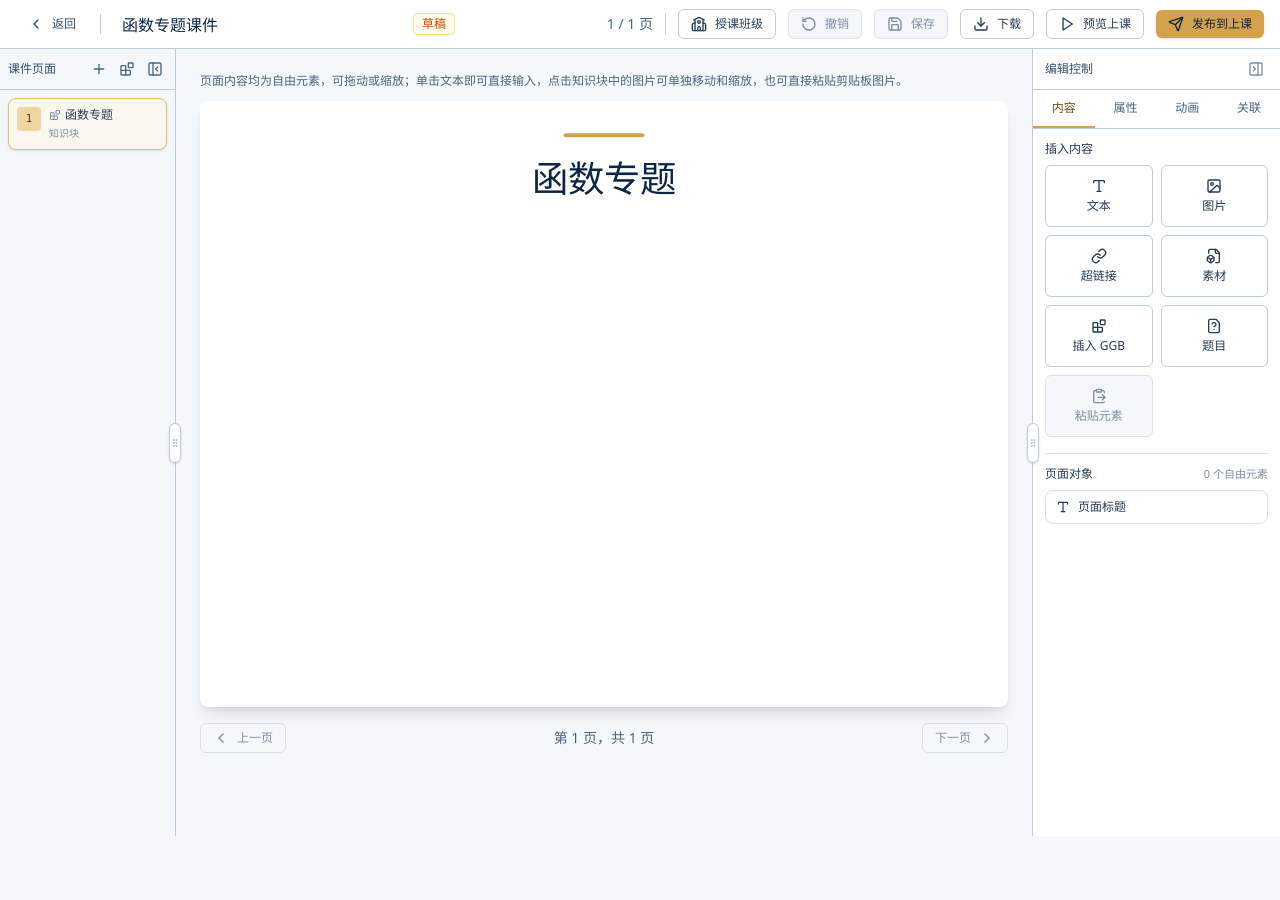
Test: LessonEditorPage preview query › inserts questions only from the teacher resource baskets
Check: the field named "课件名称" holds "函数专题课件", box x1=113 y1=8 x2=401 y2=40
Click the button "题目" at {"x": 1214, "y": 336}, box x1=1160 y1=305 x2=1268 y2=367
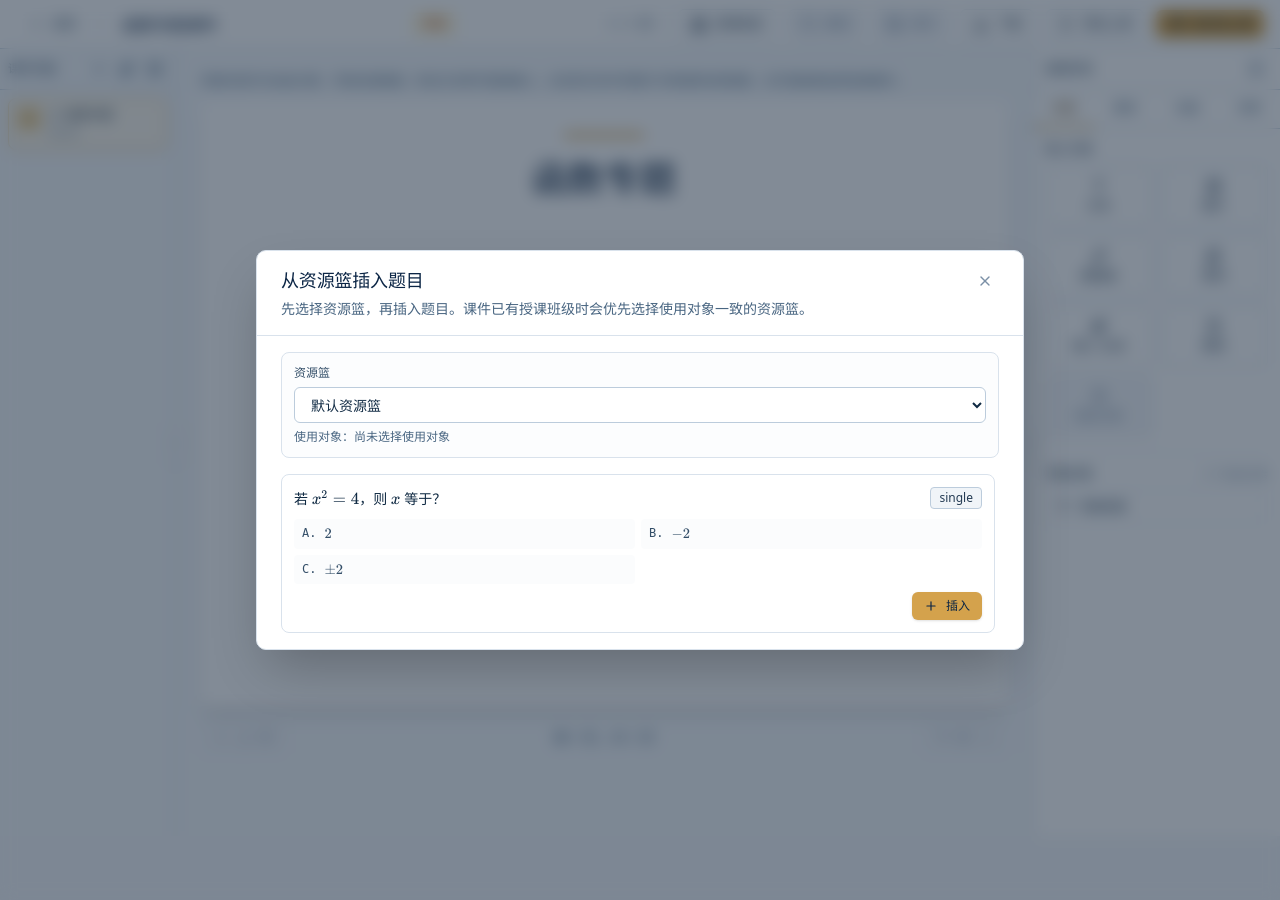
Check: the heading "从资源篮插入题目" is shown, box x1=281 y1=271 x2=424 y2=291
Click the button "插入" at {"x": 947, "y": 606}, box x1=912 y1=592 x2=982 y2=620
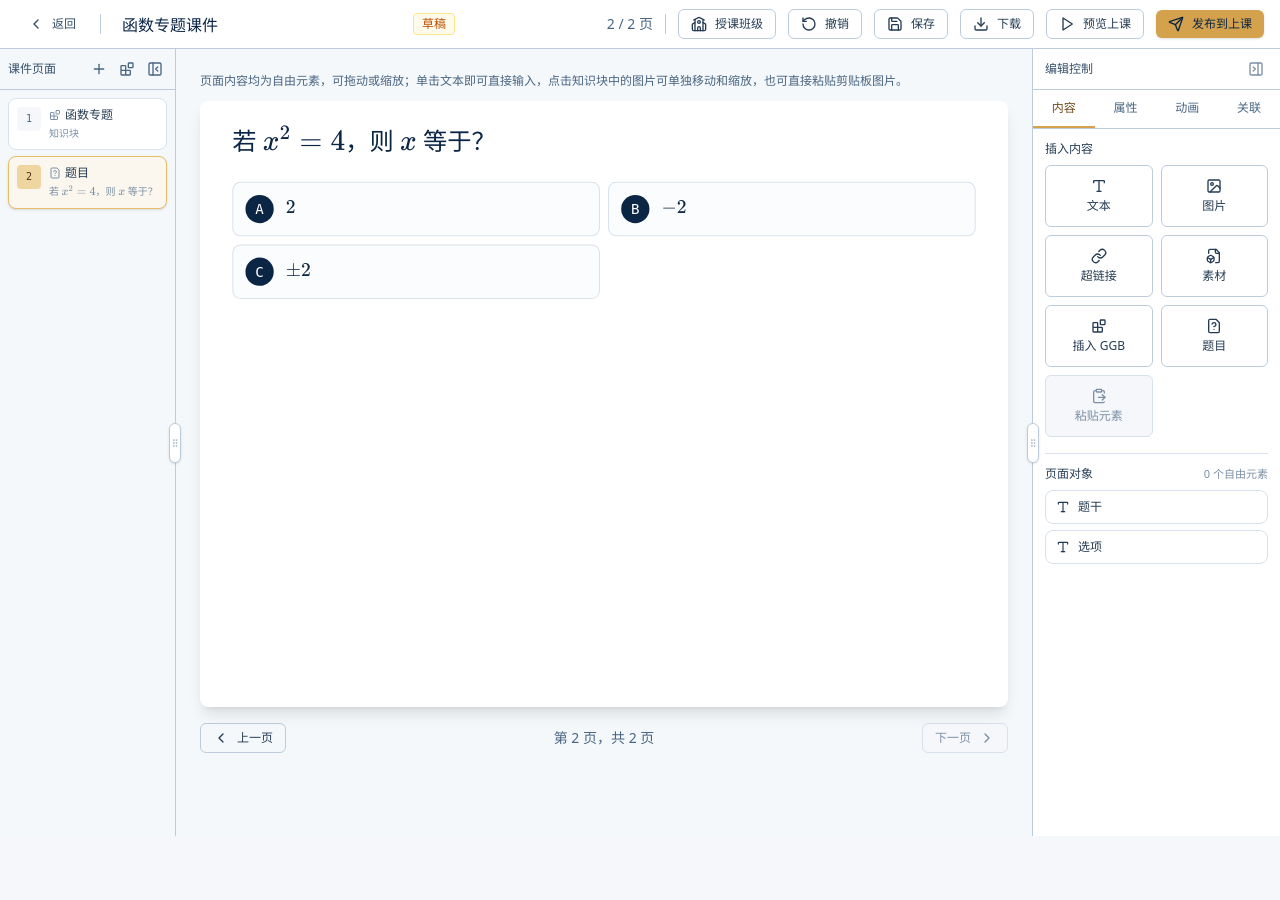
Check: the element with class "katex" showing "x = 4" is shown, box x1=62 y1=184 x2=96 y2=198
Check: the text "第 2 页，共 2 页" is shown, box x1=554 y1=728 x2=654 y2=748
